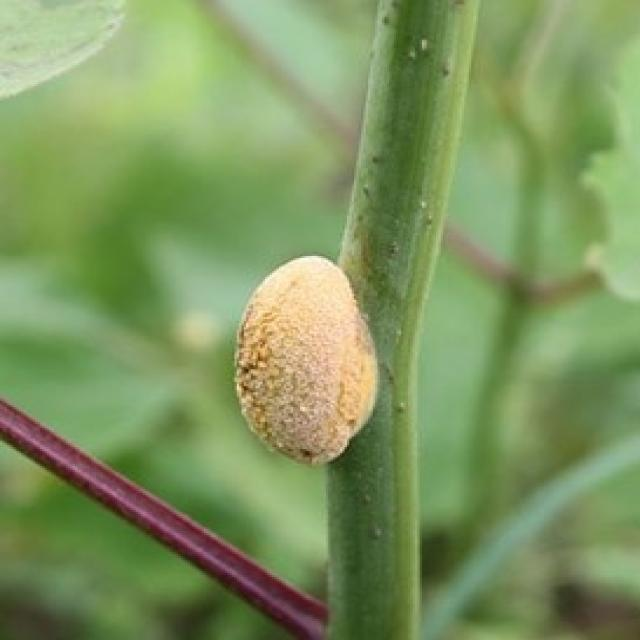Elderberry_rust: (230, 248, 421, 464)
